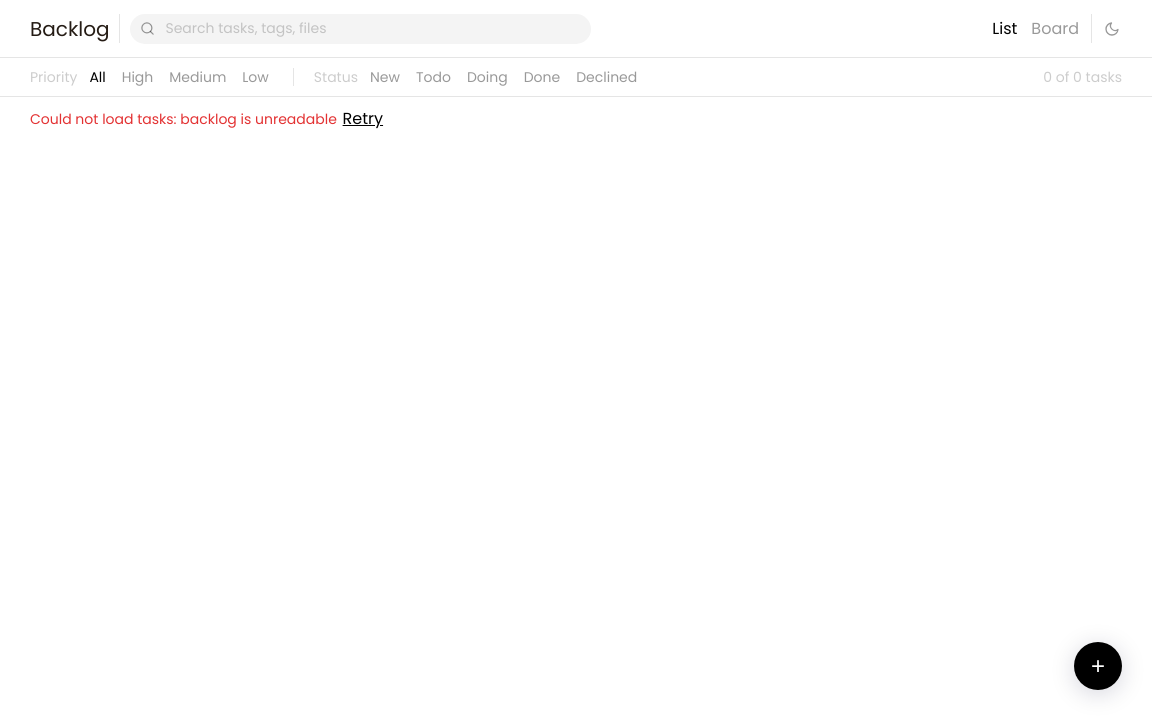
App › shows a load failure instead of an empty result, and Retry reloads
Check: the message shows "backlog is unreadable", box [180,109,337,129]
Click the button "Retry": click(363, 119) [341,107,385,131]
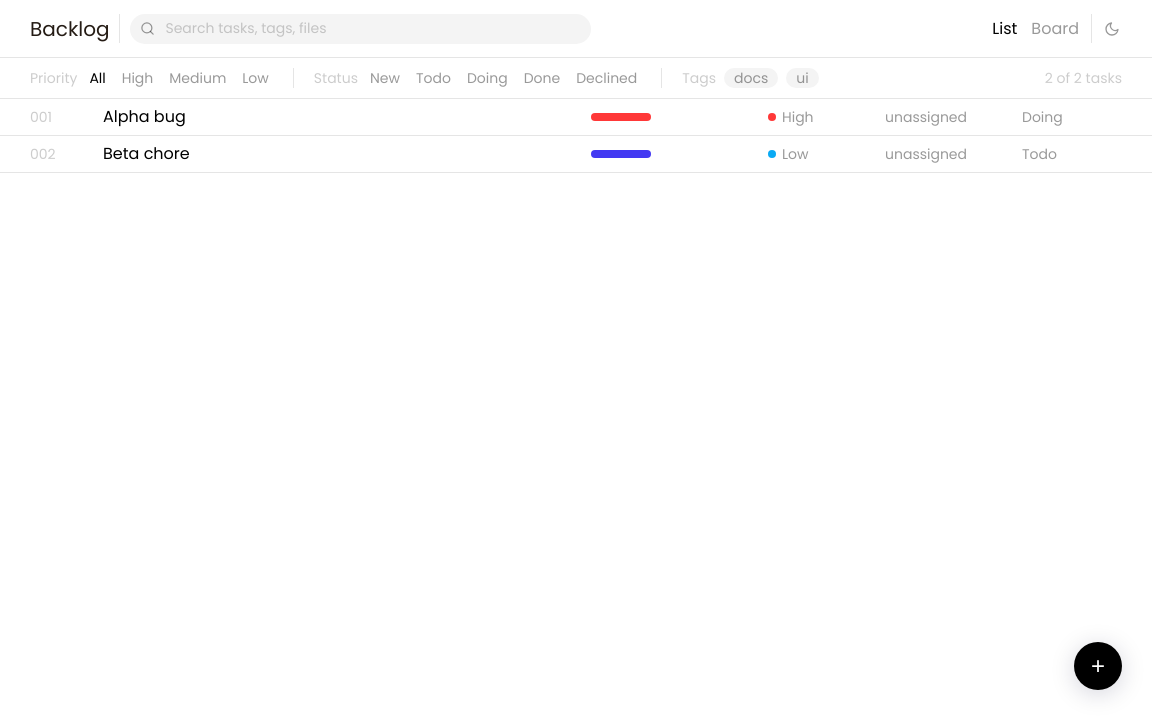
Check: the text "Alpha bug" is shown, box [103,105,186,128]
Check: the message "Could not load tasks: backlog is unreadable Retry" is gone
